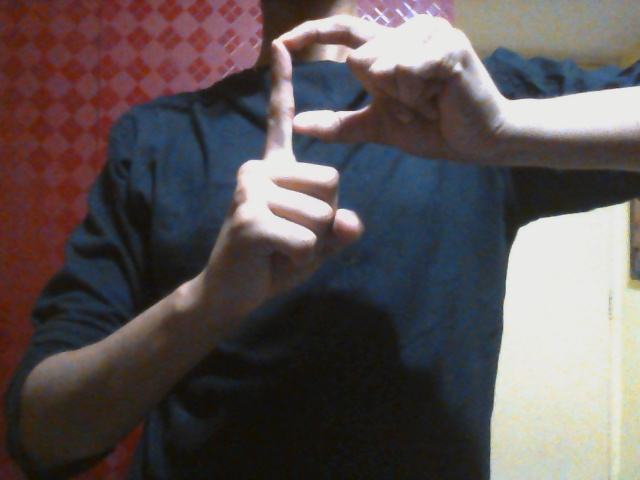P: (218, 15, 488, 313)
